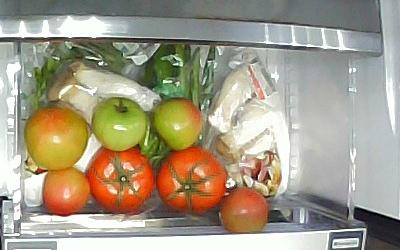tomato: (155, 145, 227, 213), (84, 145, 156, 213), (23, 104, 88, 171), (90, 96, 147, 151), (150, 96, 201, 150), (41, 165, 90, 215), (217, 186, 268, 233)
